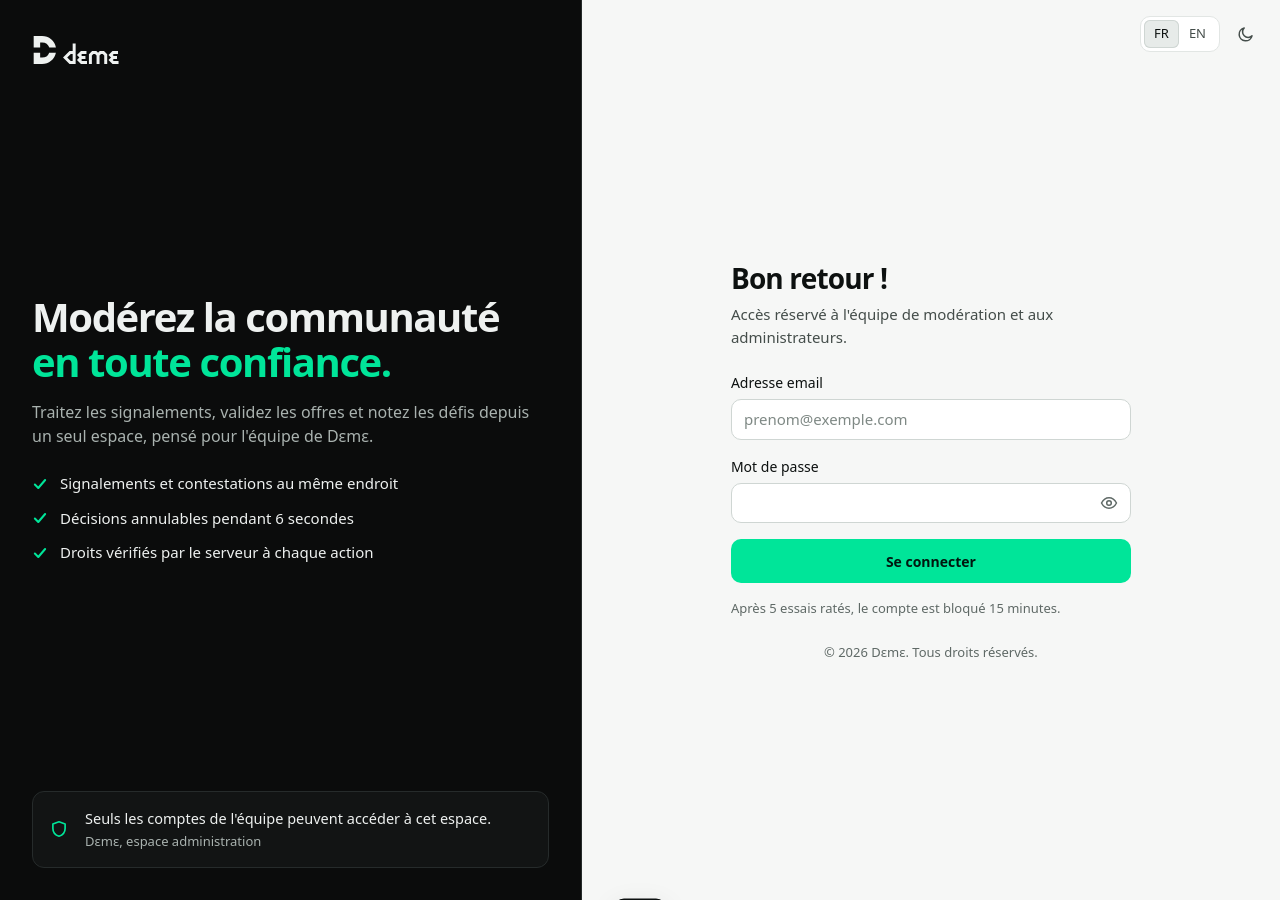
Scenario: un Référent sans rôle d'équipe n'a que la vue Référent
Type "equipe@deme.dev" into the field labelled "Adresse email" at (931, 420), box x1=731 y1=399 x2=1131 y2=440
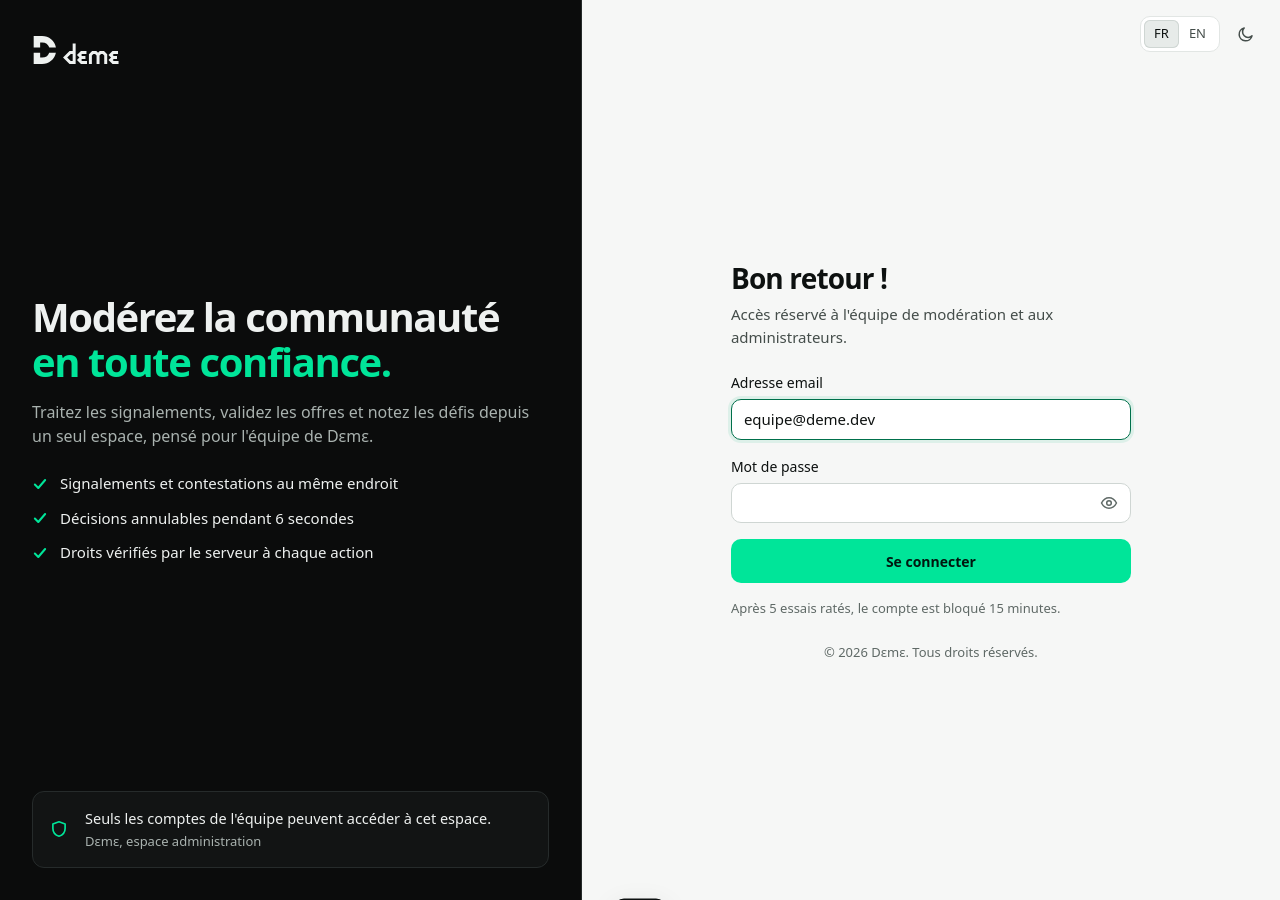
Type "un-mot-de-passe" into the password field labelled "Mot de passe" at (931, 503), box x1=731 y1=483 x2=1131 y2=523
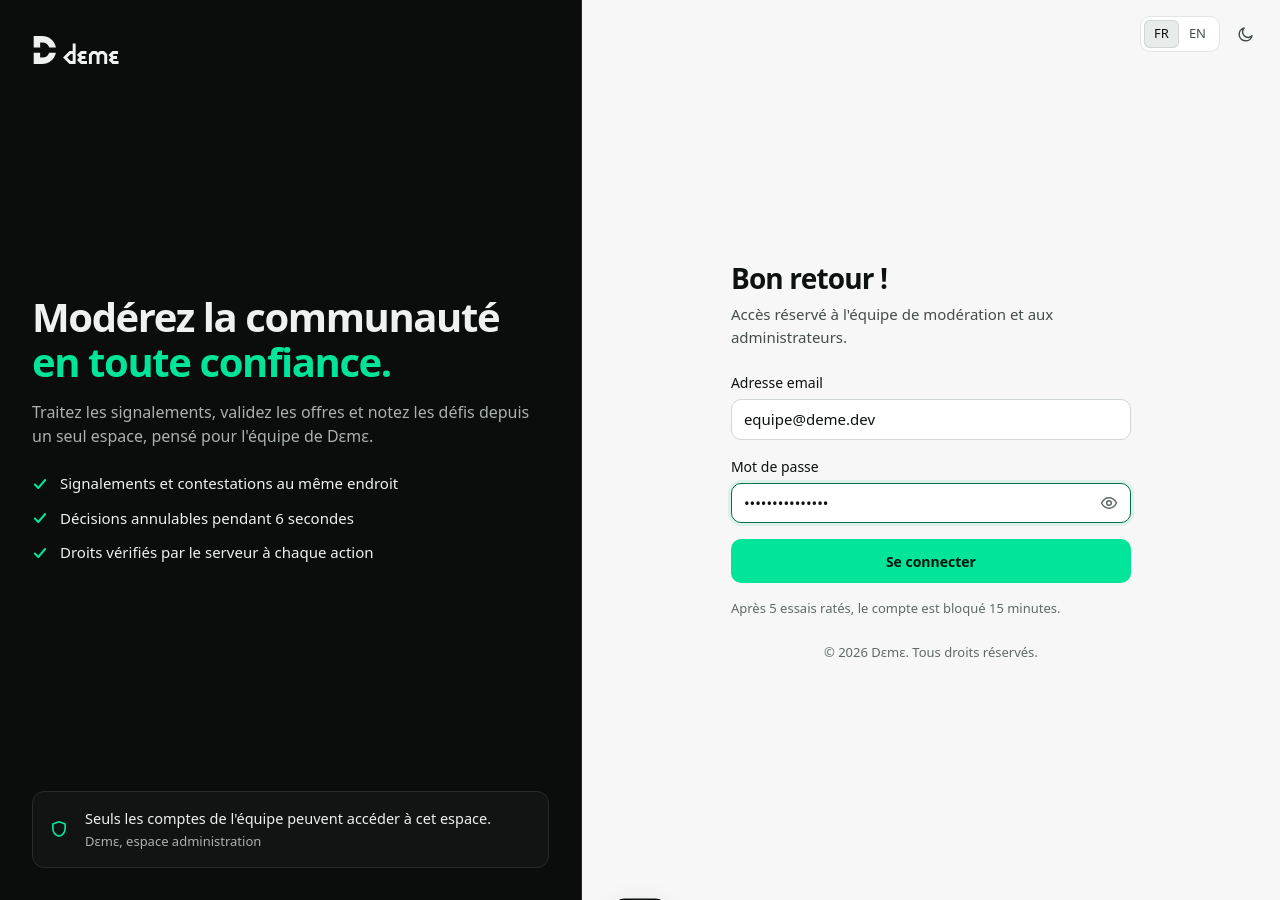
Click the button "Se connecter" at (931, 561), box x1=731 y1=539 x2=1131 y2=583
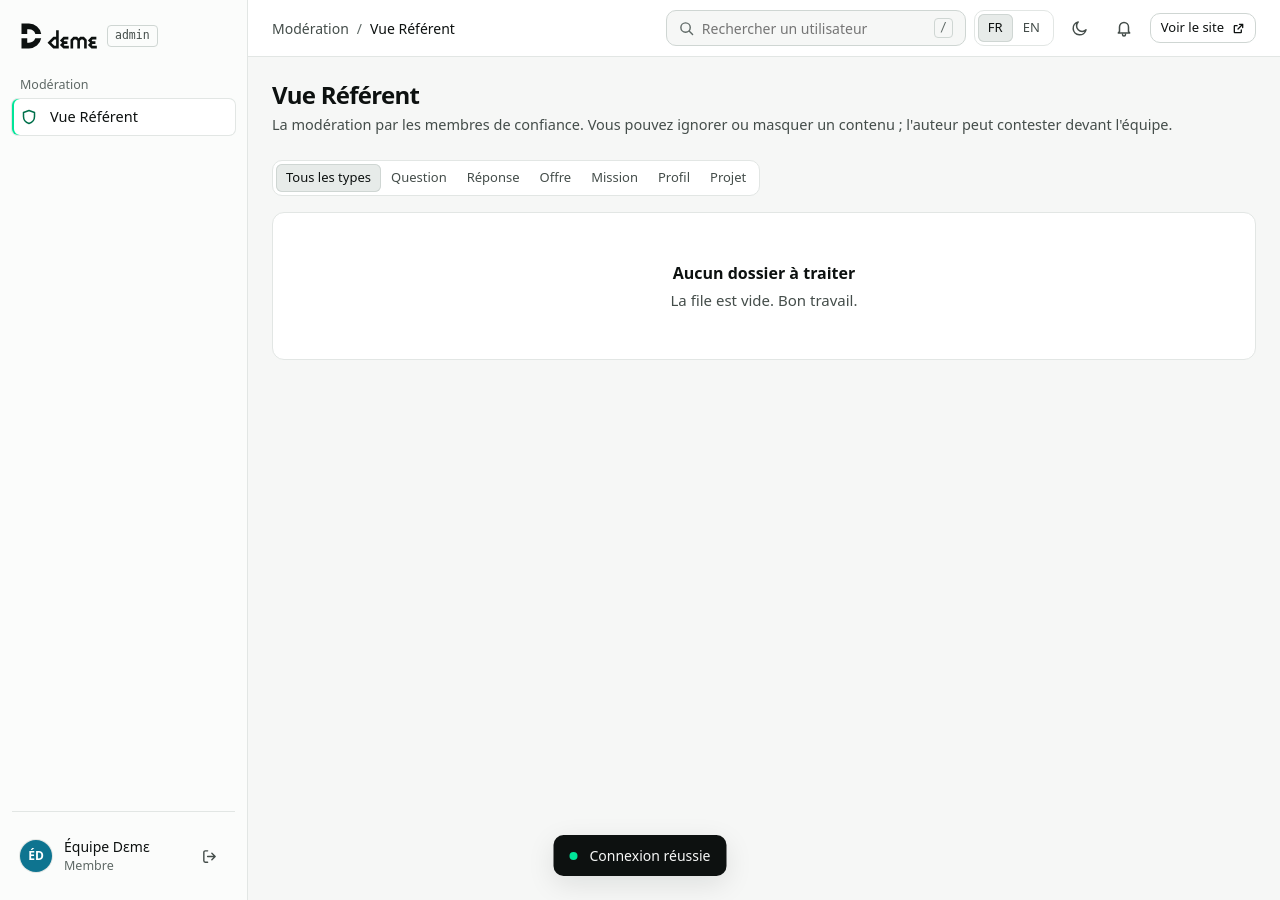
Expected: the heading "Vue Référent" is shown, x1=272 y1=78 x2=419 y2=111
